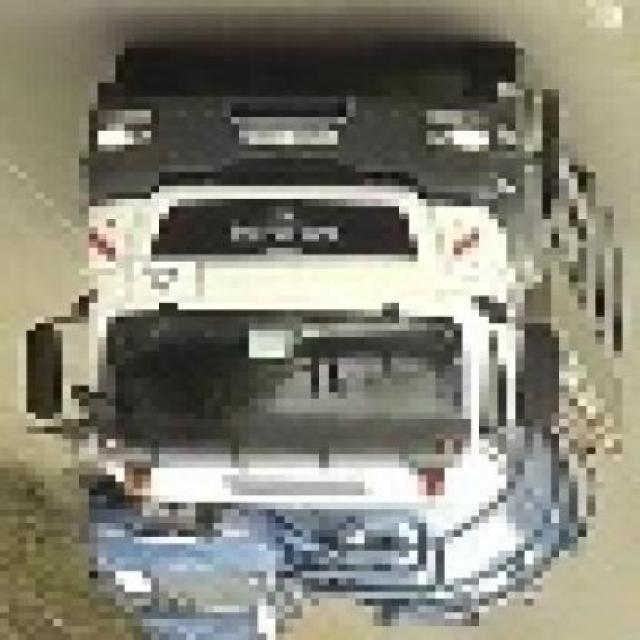truck: (27, 43, 640, 640)
